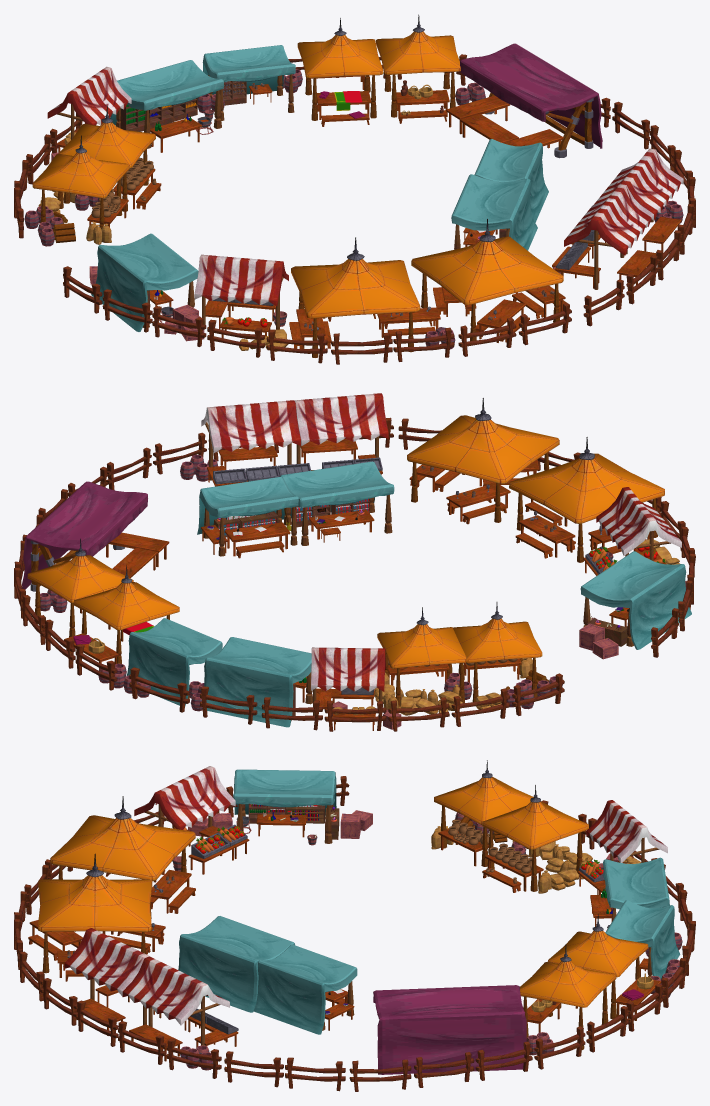
The model's file is Assets Fernanda.fbx.
The picture shows the model from 3 angles, top to bottom: view 1: azimuth 30°, elevation 25°; view 2: azimuth 150°, elevation 25°; view 3: azimuth 270°, elevation 25°; orthographic projection.
Parts seen in each view (by area): view 1: tecido_tenda_3.003, tecido_tenda.007, tecido_tenda.006, tecido_tenda_2.005, tecido_tenda_2.006, tends_4.005, tecido_tenda_2.002, tends_4.002, tecido_tenda.005, tecido_tenda.002, tecido_tenda.003, tecido_tenda_2.003 (+30 smaller); view 2: tecido_tenda_2.002, tecido_tenda.007, tecido_tenda_3.003, tecido_tenda.006, tecido_tenda_2.005, tecido_tenda_2.003, tends_4.003, tends_4.002, tecido_tenda_2.006, tecido_tenda_2.007, tends_4.004, tecido_tenda.002 (+27 smaller); view 3: tecido_tenda_3.003, tecido_tenda.006, tecido_tenda_2.006, tecido_tenda.007, tecido_tenda_2.007, tecido_tenda_2.005, tends_4.003, tends_4.005, tends_4.002, tecido_tenda_2.003, tecido_tenda.003, tecido_tenda.004 (+22 smaller).
Part boxes in pixels (x1,y1,x2,y2): tecido_tenda_3.003: (460, 43, 602, 148); tecido_tenda.007: (411, 219, 563, 305); tecido_tenda.006: (291, 237, 420, 318); tecido_tenda_2.005: (91, 233, 198, 331); tecido_tenda_2.006: (451, 174, 537, 250); tends_4.005: (194, 254, 288, 306); tecido_tenda_2.002: (110, 60, 223, 125); tends_4.002: (564, 184, 654, 255); tecido_tenda.005: (32, 135, 129, 198); tecido_tenda.002: (297, 18, 383, 78); tecido_tenda.003: (376, 14, 460, 74); tecido_tenda_2.003: (202, 45, 295, 94); tecido_tenda_2.002: (204, 637, 311, 727); tecido_tenda.007: (407, 398, 559, 484); tecido_tenda_3.003: (22, 481, 147, 589); tecido_tenda.006: (509, 437, 664, 523); tecido_tenda_2.005: (580, 551, 691, 649); tecido_tenda_2.003: (126, 618, 222, 706); tends_4.003: (201, 400, 300, 452); tends_4.002: (294, 393, 388, 445); tecido_tenda_2.006: (280, 461, 394, 519); tecido_tenda_2.007: (197, 477, 298, 534); tends_4.004: (311, 647, 385, 691); tecido_tenda.002: (73, 565, 179, 630); tecido_tenda_3.003: (373, 985, 526, 1074); tecido_tenda.006: (50, 796, 195, 880); tecido_tenda_2.006: (178, 916, 294, 1012); tecido_tenda.007: (38, 853, 152, 931); tecido_tenda_2.007: (254, 944, 357, 1034); tecido_tenda_2.005: (233, 769, 336, 815); tends_4.003: (122, 956, 229, 1025); tends_4.005: (134, 766, 235, 829); tends_4.002: (64, 928, 149, 996); tecido_tenda_2.003: (605, 900, 680, 979); tecido_tenda.003: (520, 944, 616, 1007); tecido_tenda.004: (482, 785, 588, 849).
Bounding box in the file's own units: 2830 × 457 × 2831.
